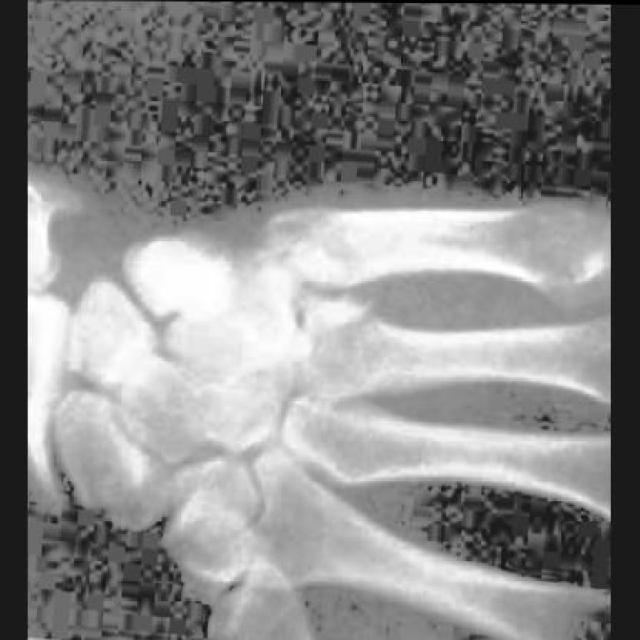Fracture: (262, 223, 382, 332)
